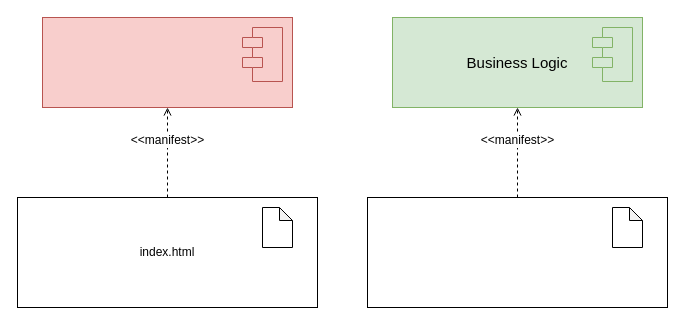
The diagram is 685 pixels wide and 325 high, and some of its shapes have lost their labels. Here are the shapes that lost their labels. From the top down, the box of each, then its label:
(42, 16, 292, 108): Client
(366, 196, 668, 308): set di file <stringa identificativa>.chunk.js
